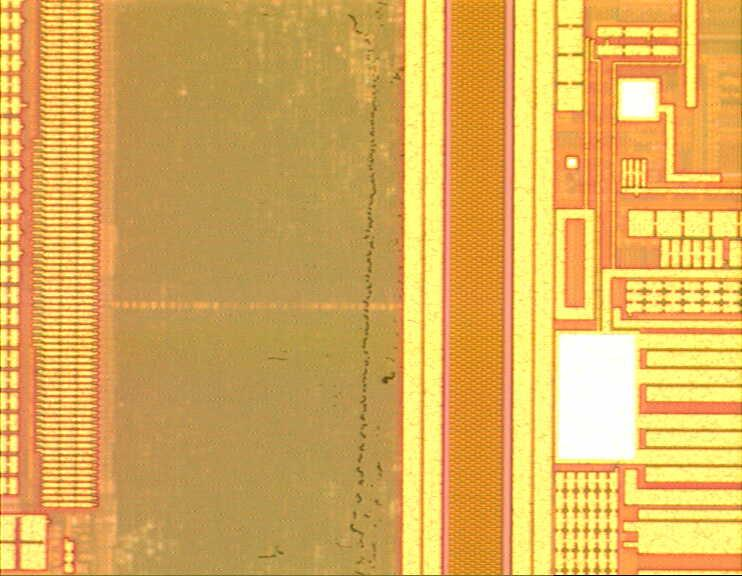PO CONTAMINATION: (251, 1, 414, 576)
